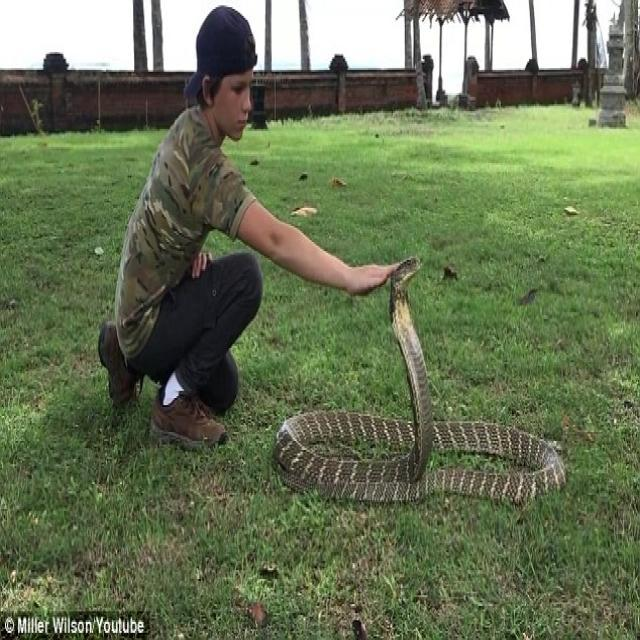Snake: (272, 255, 566, 508)
